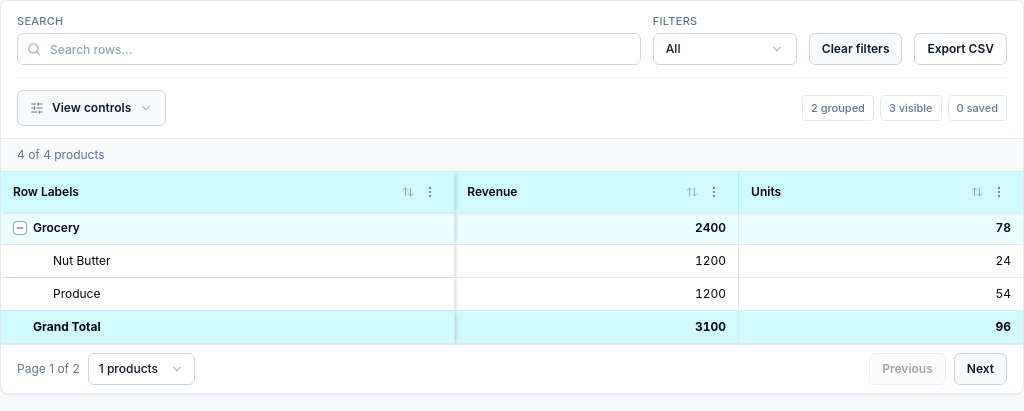
Test: DataGrid pivot layout mode › paginates pivot by top-level groups by default
expect the text "Grocery" is shown: met, box [33,220,80,236]
expect the text "Nut Butter" is shown: met, box [53,253,111,269]
Click the button "Next". click: (980, 369)
box: [954,353,1007,385]
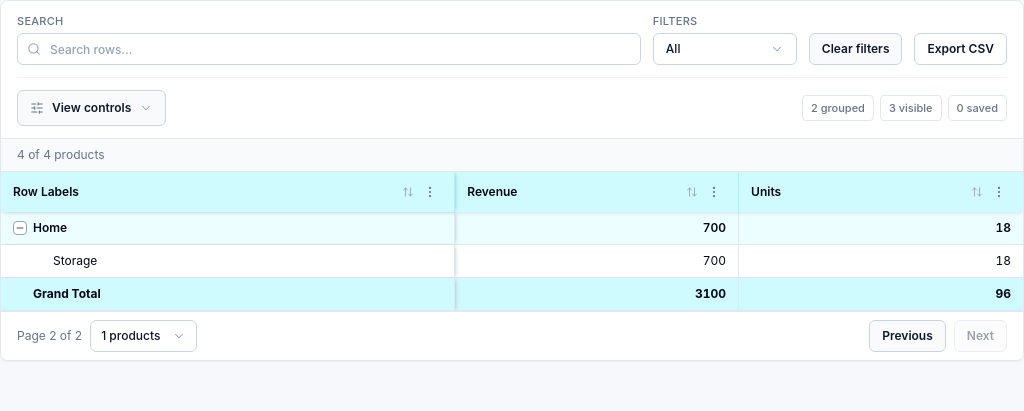
expect the text "Grocery" is gone: met
expect the text "Home" is shown: met, box [33,220,67,236]
expect the text "Storage" is shown: met, box [53,253,97,269]
